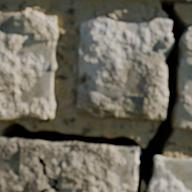brick: (0, 137, 138, 191), (0, 11, 57, 119), (149, 157, 191, 191), (174, 0, 191, 3)
broken_brick: (76, 16, 172, 120), (176, 26, 191, 131)
crack: (0, 0, 189, 191), (77, 54, 82, 99), (76, 106, 79, 113)
